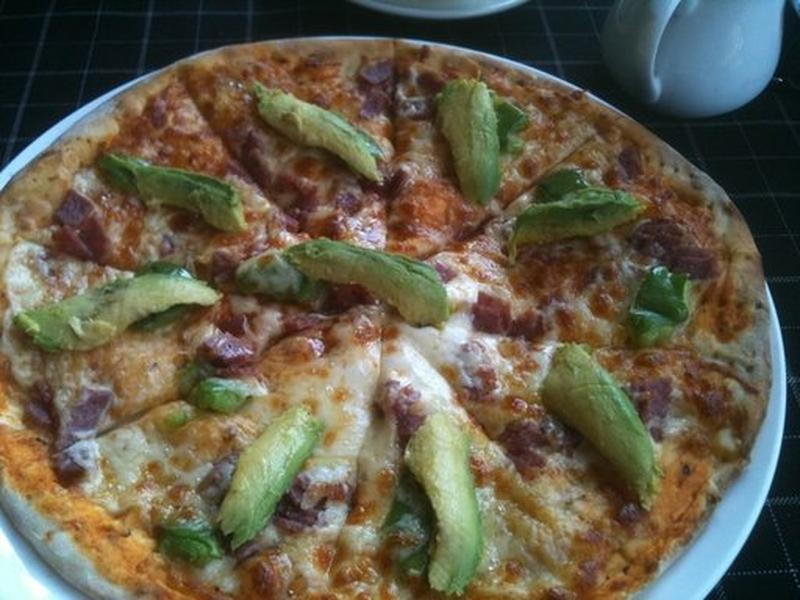pizza: (11, 61, 788, 600)
